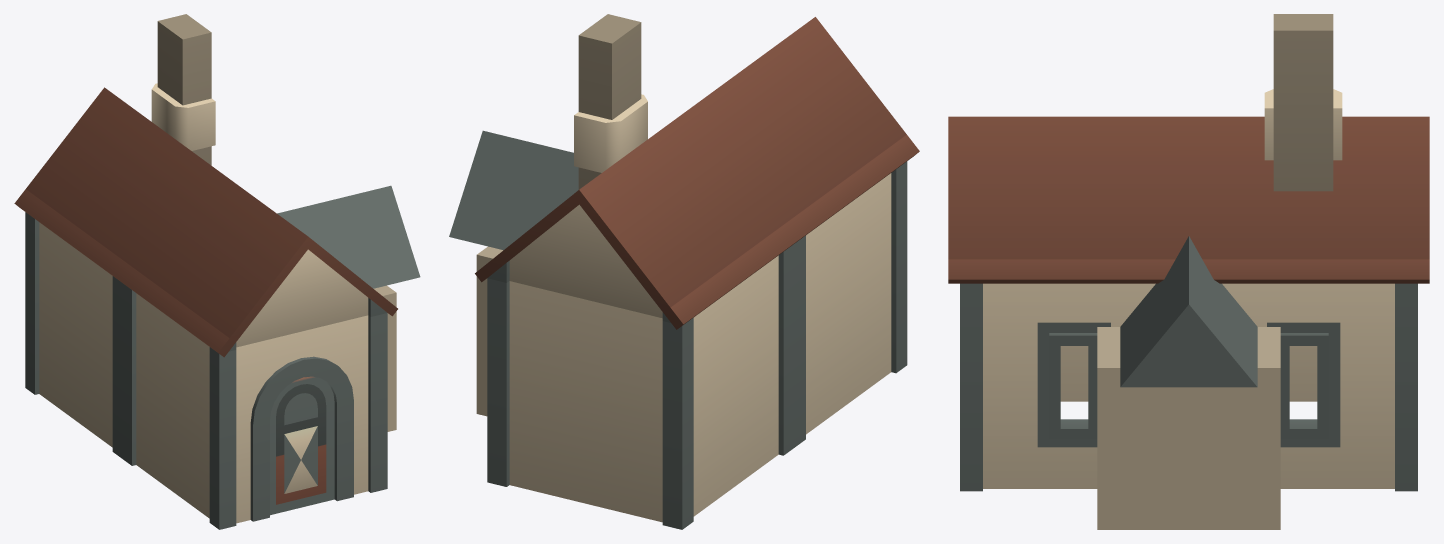
The model's file is home-offset-gables.glb.
3 renders of one model, left to right at view 1: azimuth 30°, elevation 25°; view 2: azimuth 150°, elevation 25°; view 3: azimuth 270°, elevation 25°, orthographic. The views are drawn at different scales.
Parts seen in each view (by area): view 1: roof-gable (×2), wall (×3), wall-door, Original gable, door, chimney, wall-window-small, Original box; view 2: wall (×3), roof-gable (×2), Original gable, chimney, wall-window-small, Original box, wall-door; view 3: roof-gable (×2), wall-window-small (×2), Original box, Original gable, chimney, wall (×3), wall-door.
Part boxes in pixels (<box>): roof-gable (×2): <box>14,87,397,357</box>; wall (×3): <box>25,212,236,529</box>; wall-door: <box>209,313,387,529</box>; Original gable: <box>277,185,420,288</box>; door: <box>270,376,334,515</box>; chimney: <box>151,14,215,165</box>; wall-window-small: <box>368,313,387,492</box>; Original box: <box>373,285,396,431</box>; wall (×3): <box>487,161,907,529</box>; roof-gable (×2): <box>475,17,919,329</box>; Original gable: <box>449,130,578,250</box>; chimney: <box>574,14,647,189</box>; wall-window-small: <box>487,278,509,486</box>; Original box: <box>476,246,502,416</box>; wall-door: <box>891,163,907,372</box>; roof-gable (×2): <box>948,116,1429,283</box>; wall-window-small (×2): <box>960,283,1417,491</box>; Original box: <box>1097,327,1280,529</box>; Original gable: <box>1120,236,1257,387</box>; chimney: <box>1264,14,1342,191</box>; wall (×3): <box>1060,283,1417,491</box>; wall-door: <box>960,283,982,491</box>.
Bounding box in the file's own units: 1.64 × 2.1 × 2.1.
Materials: 3 (1 with a texture image).
